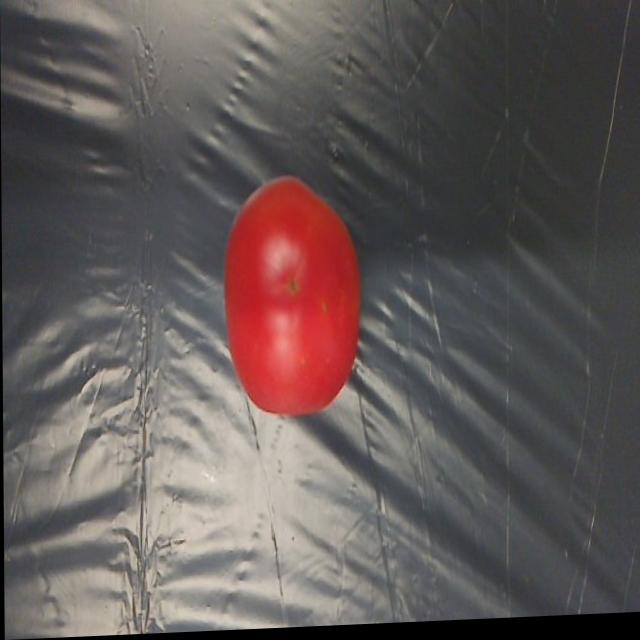kirmizi: (201, 177, 387, 437)
